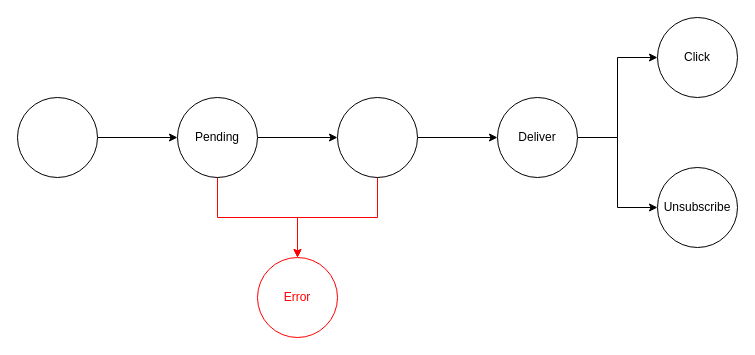
The diagram is 755 pixels wide and 355 high, and some of its shapes have lost their labels. The centre of each missing label's shape, as x and y in pixels:
Sent: pixel 377 137
Start: pixel 57 137
